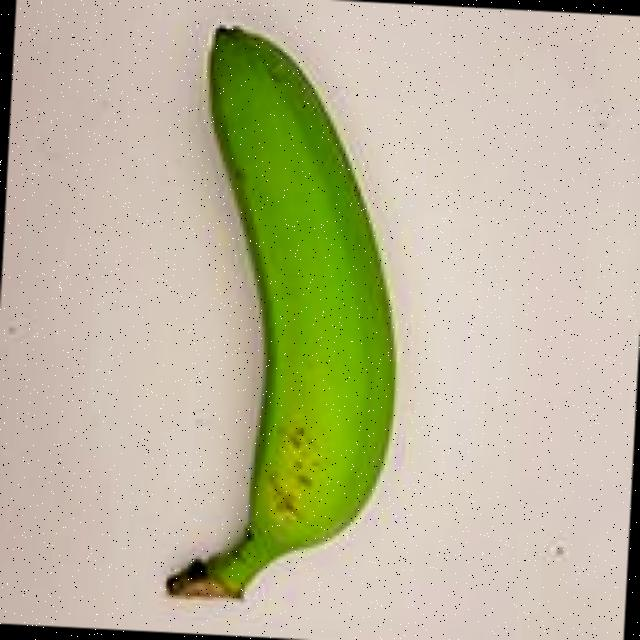Unripe: (66, 0, 490, 631)
